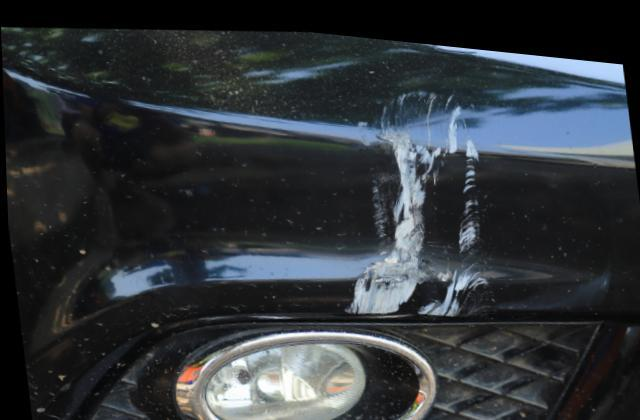scratch: (340, 74, 487, 313)
